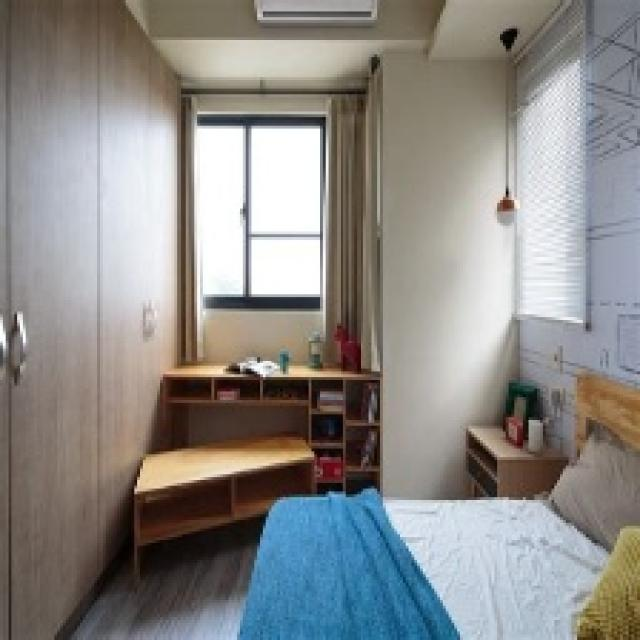Bed: (234, 372, 637, 637)
